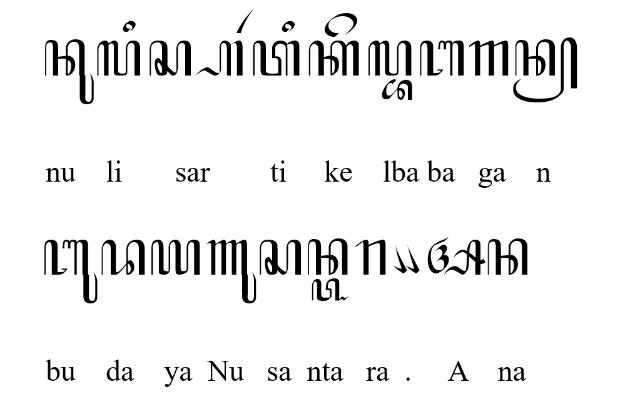-n: (512, 37, 578, 103)
A: (428, 237, 486, 277)
Nu: (206, 239, 256, 305)
_b: (382, 79, 412, 101)
_h: (194, 40, 244, 78)
_r1: (236, 8, 254, 34)
_t: (310, 278, 350, 302)
b: (418, 40, 466, 76)
bu: (42, 238, 98, 304)
d: (102, 240, 146, 276)
e: (322, 12, 358, 38)
g: (468, 40, 509, 78)
i: (122, 20, 136, 32), (282, 21, 294, 34)
k: (308, 40, 362, 76)
kom: (392, 245, 408, 274), (405, 244, 419, 274)
l: (96, 40, 142, 76), (368, 40, 412, 76)
n: (307, 238, 349, 276), (488, 238, 528, 276)
nu: (44, 39, 94, 105)
r: (355, 240, 387, 276)
s: (258, 240, 302, 276), (149, 40, 191, 76)
t: (252, 40, 302, 76)
y: (150, 239, 202, 277)
